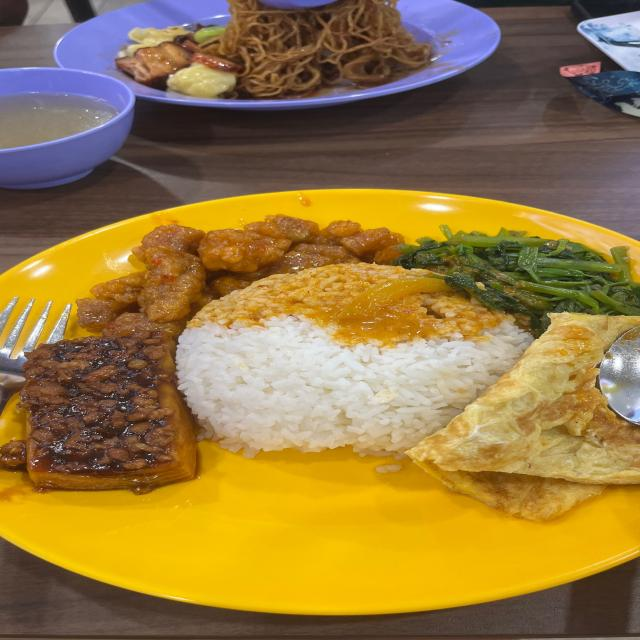Egg: (406, 313, 640, 521)
Green veg: (390, 225, 640, 331)
Pork: (76, 215, 403, 336), (115, 33, 242, 85)
Rice: (177, 263, 532, 454)
Tofu: (18, 330, 196, 491)
